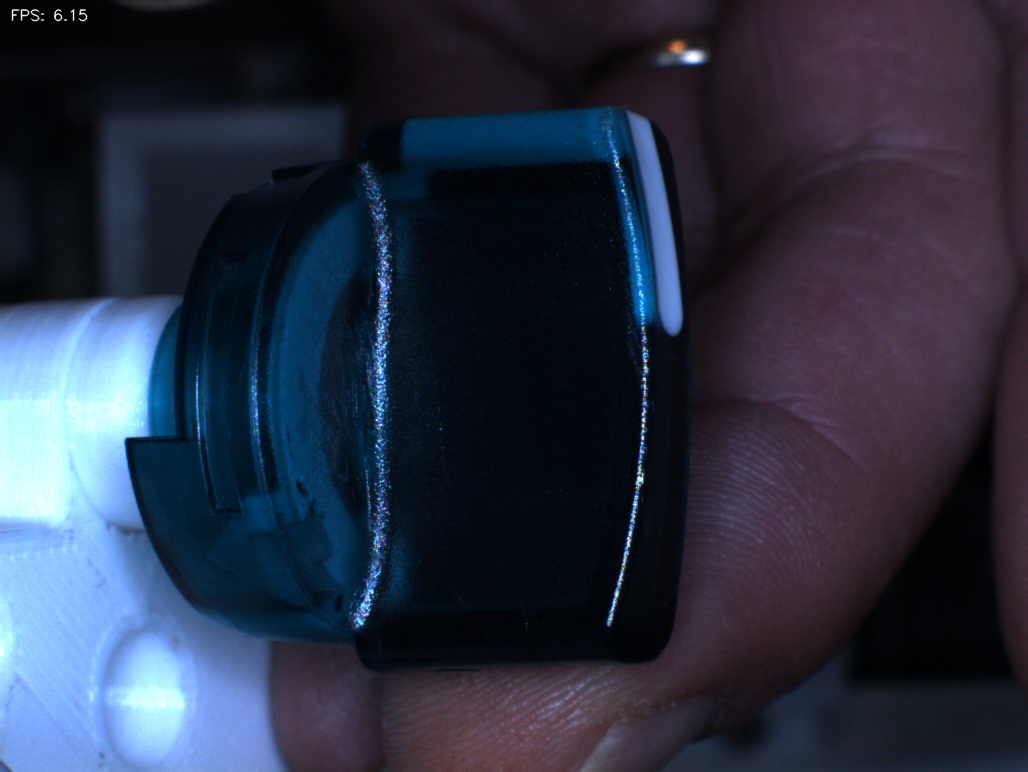Givrage: (300, 324, 376, 463)
